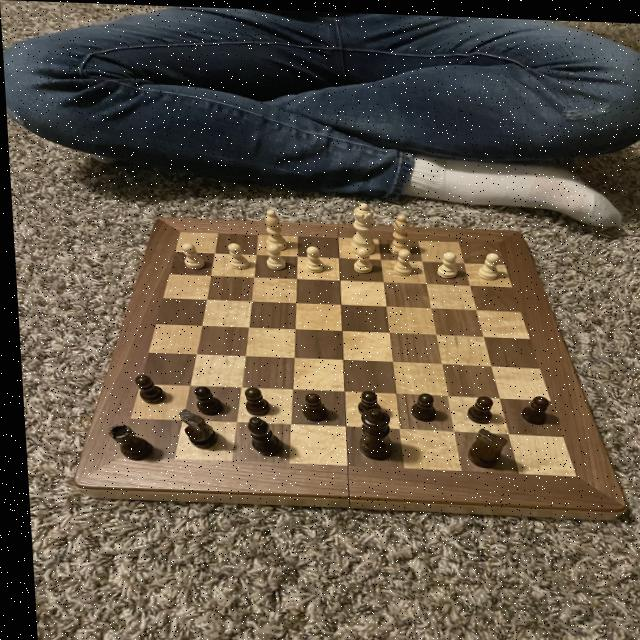bishop: (241, 411, 282, 457)
black-king: (458, 423, 505, 467), (170, 406, 216, 450)
black-knight: (186, 383, 221, 417), (513, 390, 547, 423), (128, 374, 164, 405), (294, 389, 326, 423), (458, 391, 492, 422), (237, 385, 268, 416), (404, 389, 433, 421), (348, 387, 378, 414)
black-pawn: (346, 402, 392, 461)
black-queen: (100, 422, 152, 462)
black-rook: (380, 210, 412, 255), (258, 204, 285, 249)
white-knight: (221, 240, 250, 270), (174, 240, 204, 269), (297, 242, 325, 272), (257, 241, 285, 269), (473, 248, 499, 278), (386, 245, 412, 275), (432, 247, 457, 275), (347, 244, 371, 272)
white-pawn: (340, 197, 377, 255)
